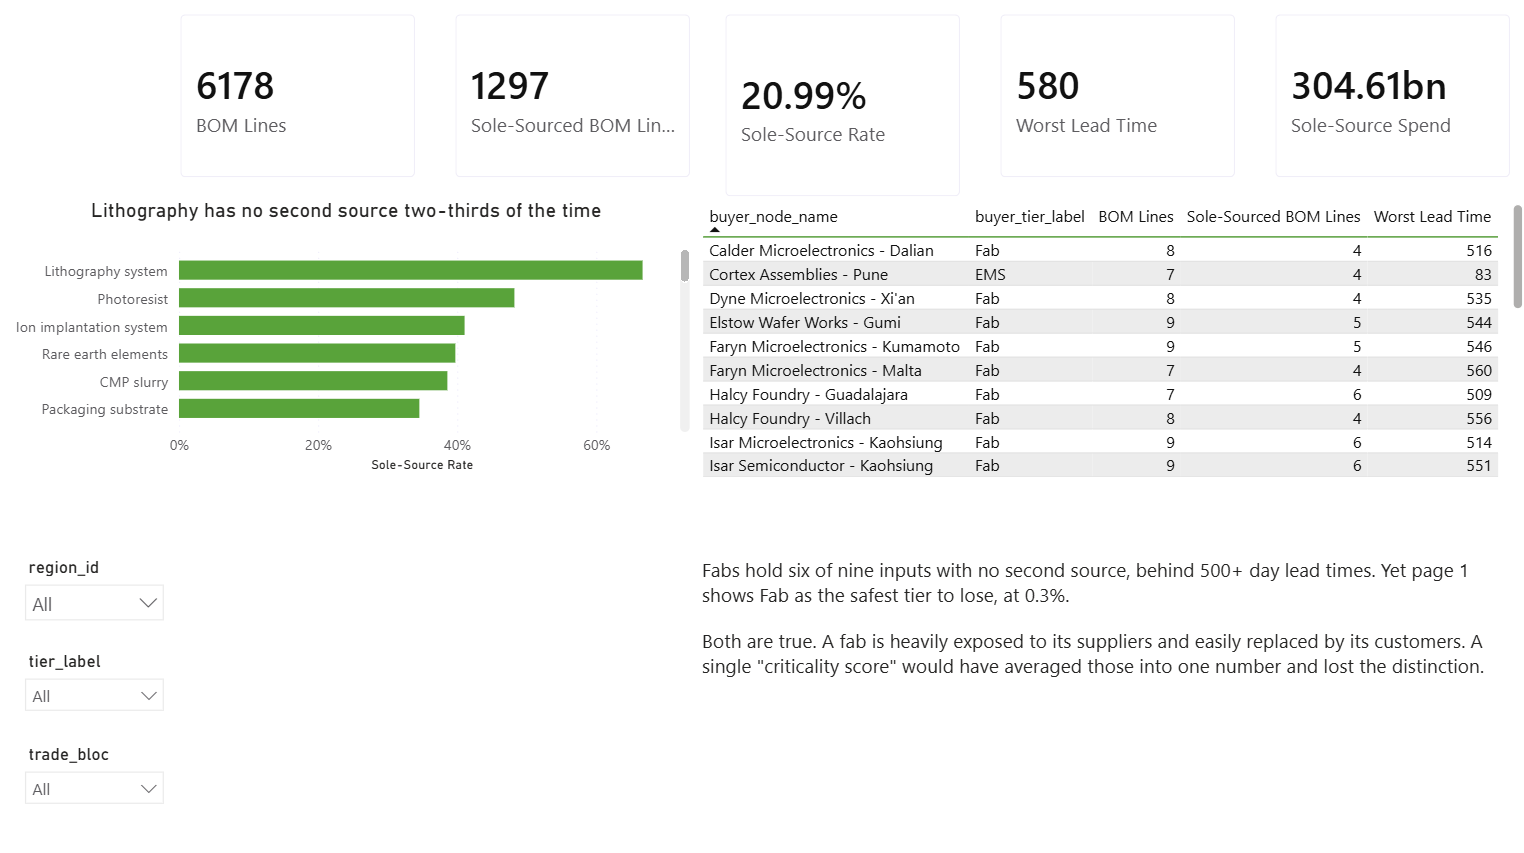

What the dashboard file says about the page in this screenshot:
{"tool":"powerbi","page":{"name":"Sole-Source Exposure","canvas":[1280,720],"ordinal":2},"visuals":[{"type":"cardVisual","fields":{"Data":["_Measures.Sole-Sourced BOM Lines"]},"box":[365.7,0,230,170],"z":0},{"type":"cardVisual","fields":{"Data":["_Measures.BOM Lines"]},"box":[136.2,0,230,170],"z":1000},{"type":"cardVisual","fields":{"Data":["_Measures.Sole-Source Rate"]},"box":[591.4,0,230,186],"z":2000},{"type":"cardVisual","fields":{"Data":["_Measures.Worst Lead Time"]},"box":[820.9,0,230,170],"z":3000},{"type":"cardVisual","fields":{"Data":["_Measures.Sole-Source Spend"]},"box":[1050.5,0,230,170],"z":4000},{"type":"clusteredBarChart","title":"Lithography has no second source two-thirds of the time","fields":{"Category":["dim_category.category_id"],"Y":["_Measures.Sole-Source Rate"]},"box":[0,170.2,583.6,233.4],"z":5000},{"type":"tableEx","fields":{"Values":["dim_buyer.buyer_node_name","dim_buyer.buyer_tier_label","_Measures.BOM Lines","_Measures.Sole-Sourced BOM Lines","_Measures.Worst Lead Time"]},"box":[583.6,170.2,696.4,238.3],"z":6000},{"type":"slicer","fields":{"Values":["dim_node.region_id"]},"box":[13.6,464.9,136.2,78.8],"z":7000},{"type":"slicer","fields":{"Values":["dim_node.tier_label"]},"box":[13.6,543.7,136.2,77.8],"z":8000},{"type":"slicer","fields":{"Values":["dim_node.trade_bloc"]},"box":[13.6,621.5,136,78],"z":9000},{"type":"textbox","box":[583.6,464.9,677,149.8],"z":10000}]}

Visuals, with their boxes in screenshot pixels (x1, y1, x2, y2), scaled from the page's 1280x720 canvas onto the 1524x853 screenshot:
cardVisual - _Measures.Sole-Sourced BOM Lines: select_region(435, 0, 709, 201)
cardVisual - _Measures.BOM Lines: select_region(162, 0, 436, 201)
cardVisual - _Measures.Sole-Source Rate: select_region(704, 0, 978, 220)
cardVisual - _Measures.Worst Lead Time: select_region(977, 0, 1251, 201)
cardVisual - _Measures.Sole-Source Spend: select_region(1251, 0, 1523, 201)
"Lithography has no second source two-thirds of the time" clusteredBarChart: select_region(0, 202, 695, 478)
tableEx - dim_buyer.buyer_node_name x dim_buyer.buyer_tier_label: select_region(695, 202, 1523, 484)
slicer - dim_node.region_id: select_region(16, 551, 178, 644)
slicer - dim_node.tier_label: select_region(16, 644, 178, 736)
slicer - dim_node.trade_bloc: select_region(16, 736, 178, 829)
textbox: select_region(695, 551, 1501, 728)
